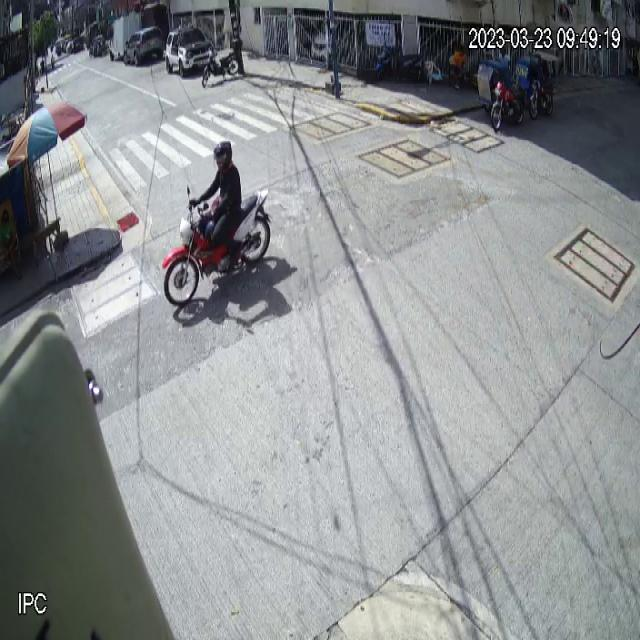Motorcycle: (162, 183, 272, 307)
Tricycle: (476, 56, 526, 132)
